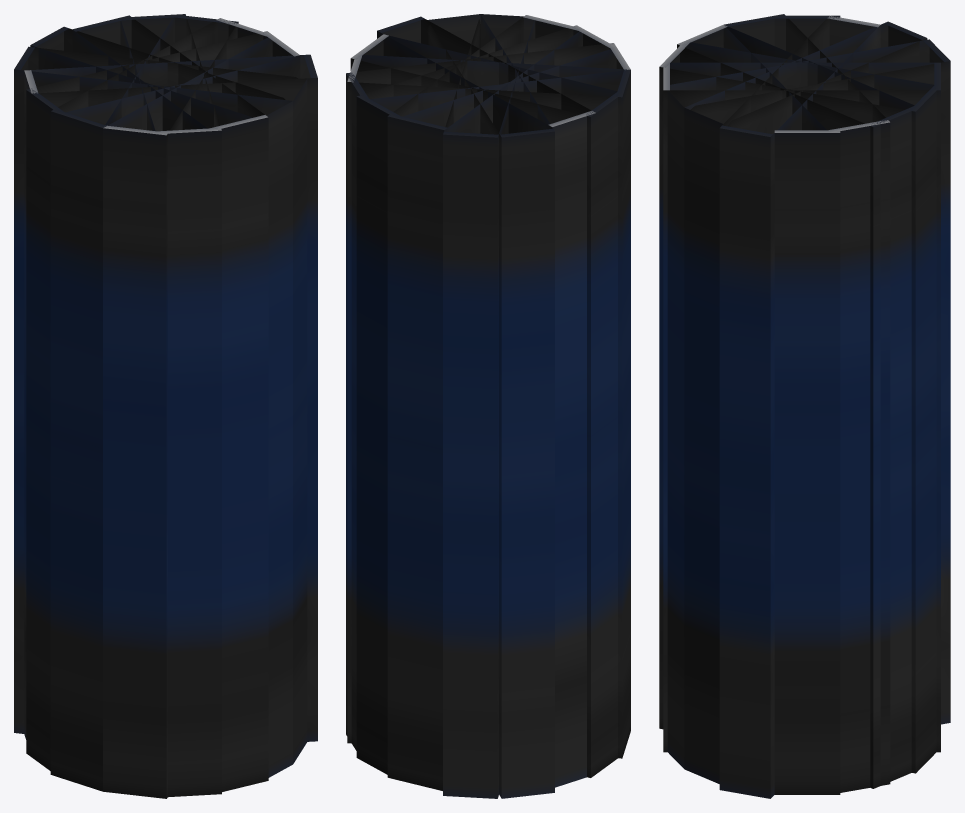
File: centrifuge_middle.obj
The picture shows the model from 3 angles, left to right: view 1: azimuth 30°, elevation 25°; view 2: azimuth 150°, elevation 25°; view 3: azimuth 270°, elevation 25°; orthographic projection.
Visible parts, largest first — view 1: hexadecagon; view 2: hexadecagon; view 3: hexadecagon.
Part boxes in pixels (x1,y1,x2,y2): hexadecagon: (14, 14, 317, 798); hexadecagon: (346, 14, 630, 798); hexadecagon: (659, 14, 950, 798).
Size of the model in its own units: 3.05 by 7.64 by 3.05.
